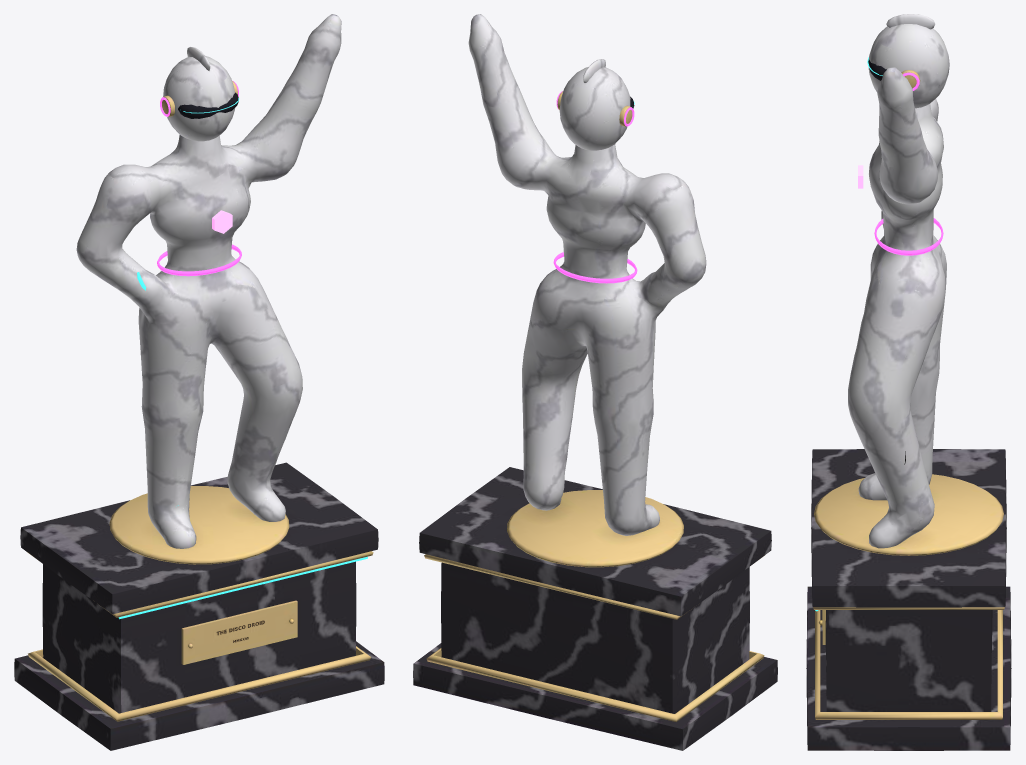
Rendered from statue.glb.
The picture shows the model from 3 angles, left to right: view 1: azimuth 30°, elevation 25°; view 2: azimuth 150°, elevation 25°; view 3: azimuth 270°, elevation 25°; orthographic projection. The views are drawn at different scales.
Parts seen in each view (by area): view 1: base, body, head; view 2: base, body, head; view 3: base, body, head.
Boxes of the visible parts, left/top/right/bottom form: base: left=14, top=462, right=384, bottom=750; body: left=76, top=14, right=341, bottom=564; head: left=160, top=47, right=239, bottom=141; base: left=413, top=467, right=777, bottom=750; body: left=468, top=14, right=706, bottom=567; head: left=556, top=59, right=634, bottom=150; base: left=806, top=449, right=1011, bottom=750; body: left=814, top=67, right=1003, bottom=555; head: left=867, top=14, right=949, bottom=108.
Size of the model in its own units: 3.6 by 8.03 by 2.2.
5 materials, 1 textured.
